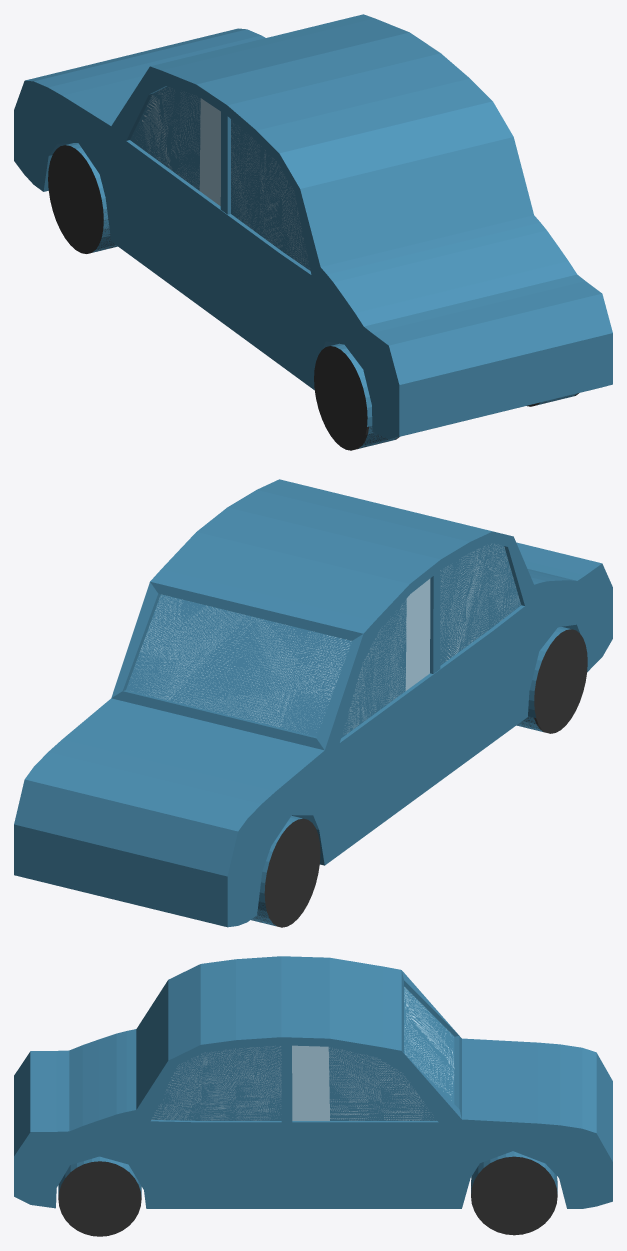
The model's file is car.glb.
3 renders of one model, top to bottom at view 1: azimuth 30°, elevation 25°; view 2: azimuth 150°, elevation 25°; view 3: azimuth 270°, elevation 25°, orthographic. The views are drawn at different scales.
Visible parts, largest first — view 1: Cube; view 2: Cube; view 3: Cube.
Boxes of the visible parts, x1,y1,x2,y2 form: Cube: (14, 14, 612, 450); Cube: (14, 479, 612, 927); Cube: (14, 956, 612, 1236).
Size of the model in its own units: 2.06 by 2.28 by 6.25.
1 material, 1 textured.
